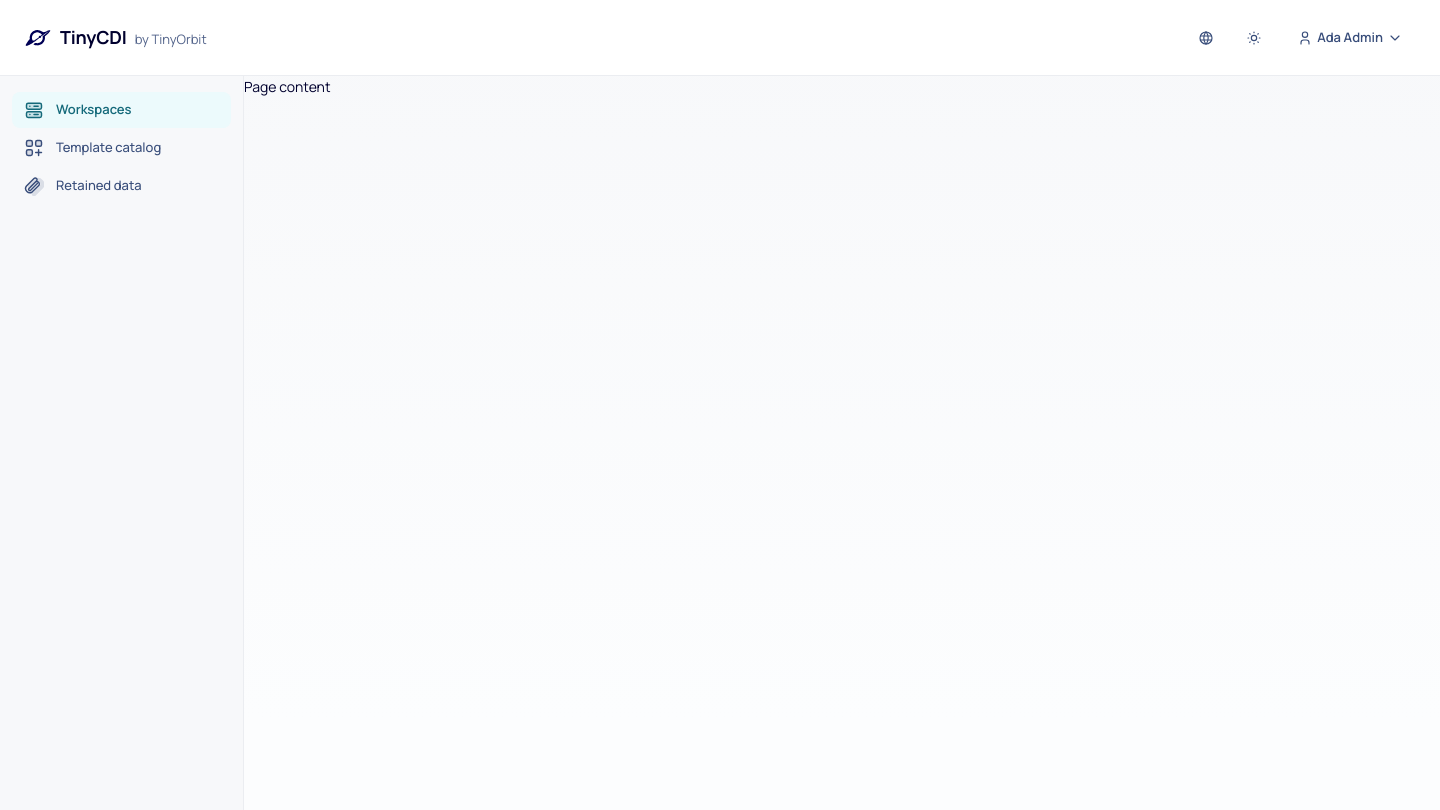
Test: user menu › the revoke-all confirm can be cancelled without any request
Click the button "Ada Admin" at point(1350, 38), box [1284, 20, 1416, 56]
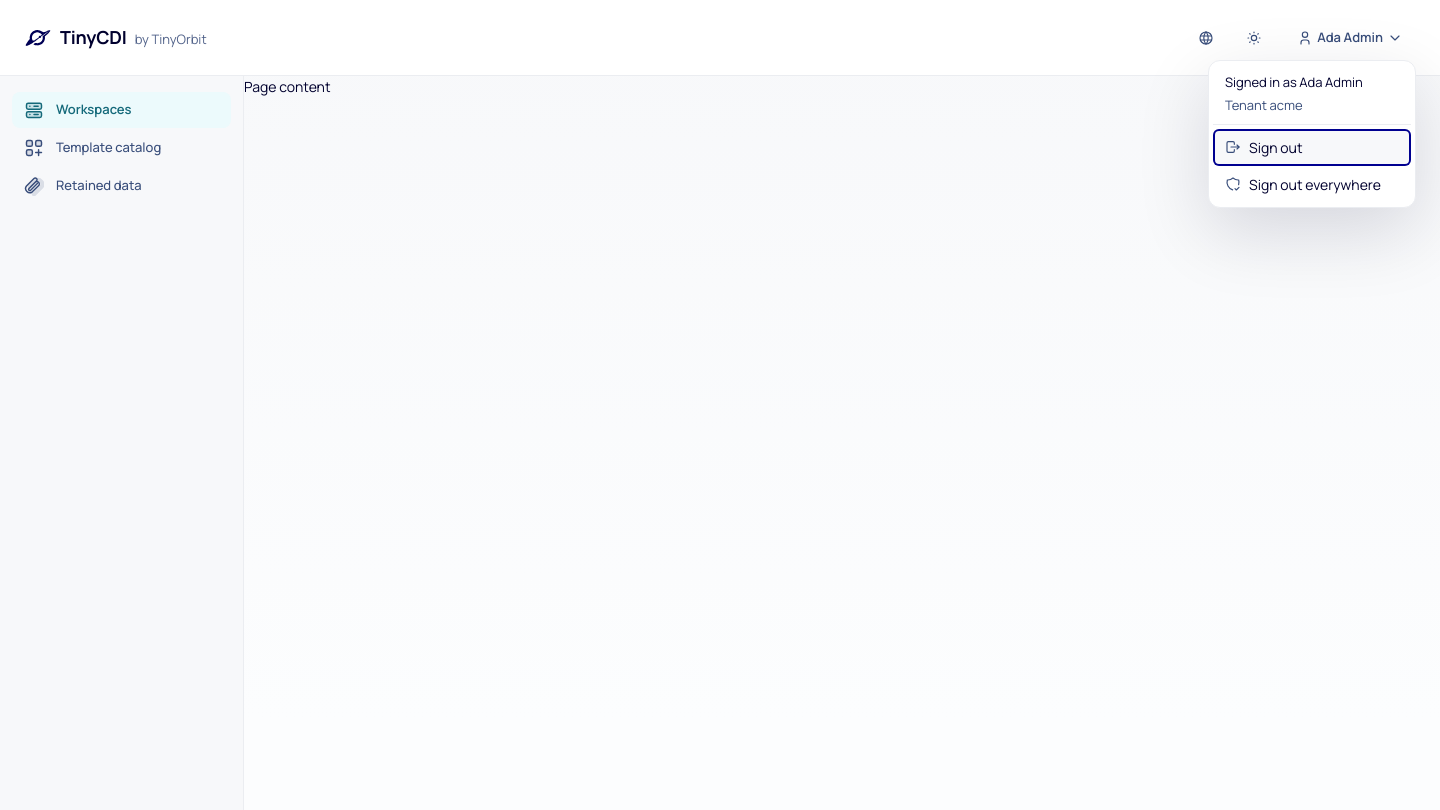
Click the menu item "Sign out everywhere" at point(1312, 184), box [1213, 166, 1411, 202]
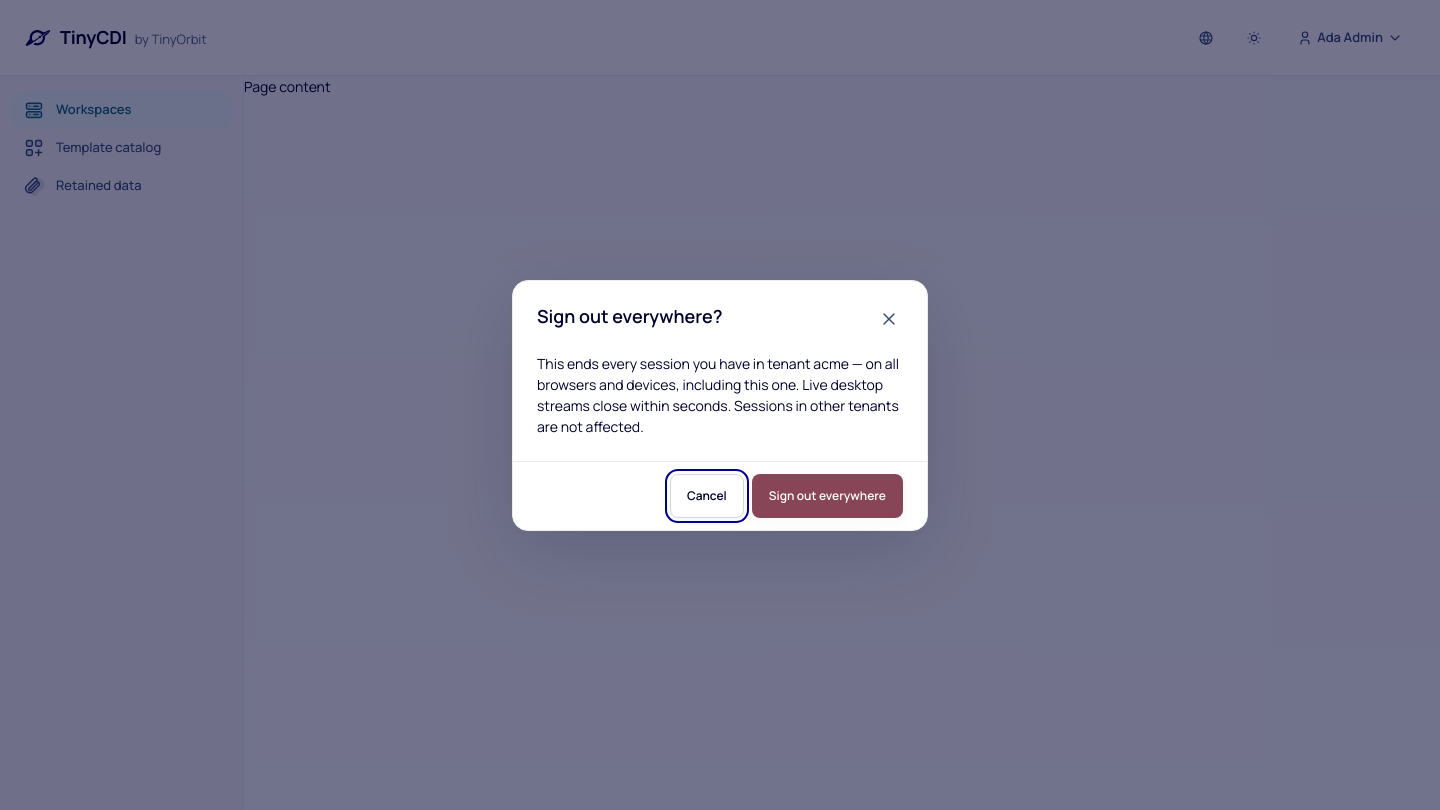
Click the button "Cancel" at point(707, 496), box [670, 474, 744, 518]
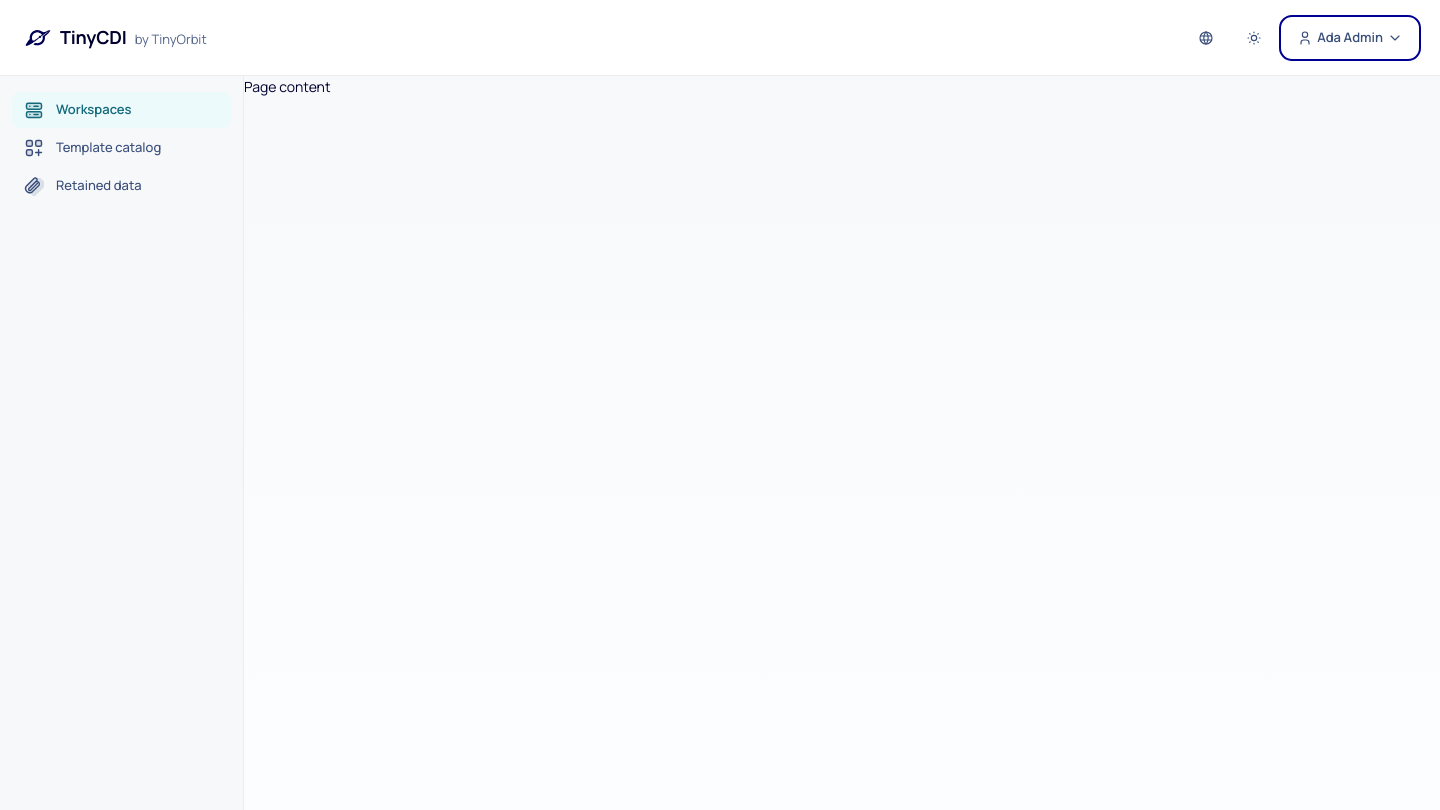
Expected: the dialog is gone
